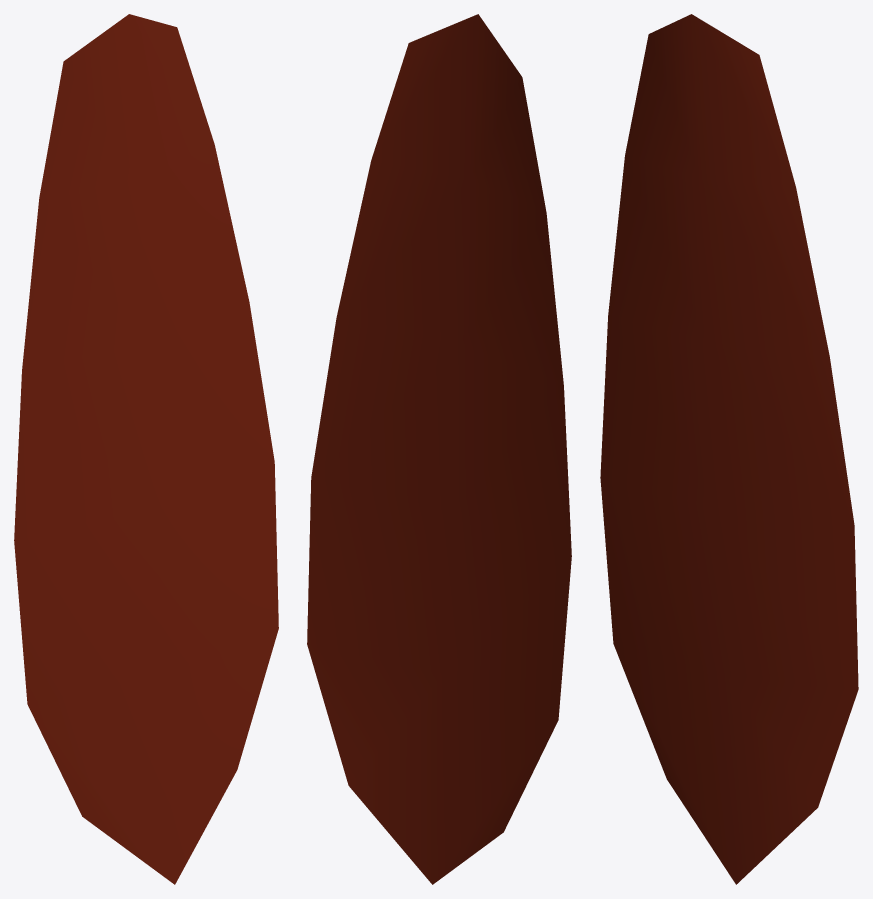
File: pheasant_feather_flight_tertiary_022.obj
3 renders of one model, left to right at view 1: azimuth 30°, elevation 25°; view 2: azimuth 150°, elevation 25°; view 3: azimuth 330°, elevation 25°, orthographic. The views are drawn at different scales.
Visible parts, largest first — view 1: feather_flight_tertiary_022; view 2: feather_flight_tertiary_022; view 3: feather_flight_tertiary_022.
Part boxes in pixels (<box>): feather_flight_tertiary_022: <box>14,14,278,884</box>; feather_flight_tertiary_022: <box>307,14,571,884</box>; feather_flight_tertiary_022: <box>600,14,858,884</box>.
Bounding box in the file's own units: 0.00899 × 0.0286 × 0.000634.
